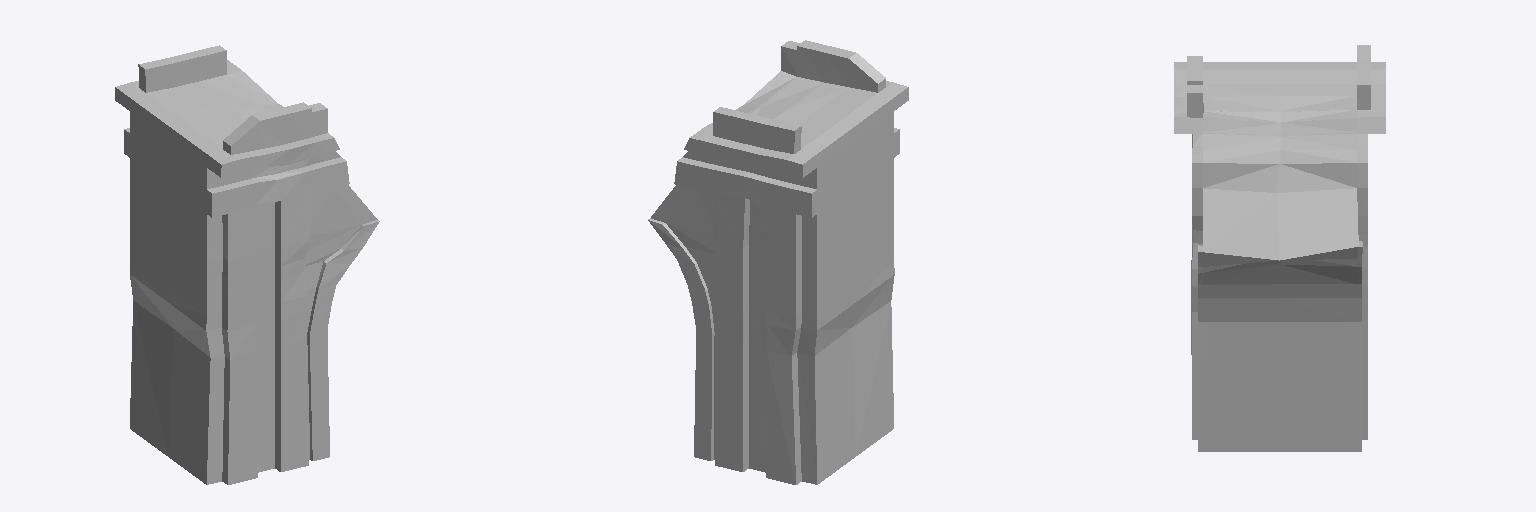
The model's file is bridgePillar.obj.
3 renders of one model, left to right at view 1: azimuth 30°, elevation 25°; view 2: azimuth 150°, elevation 25°; view 3: azimuth 270°, elevation 25°, orthographic.
Parts seen in each view (by area): view 1: defaultMaterial.016; view 2: defaultMaterial.016; view 3: defaultMaterial.016.
Part boxes in pixels (x1,y1,x2,y2): defaultMaterial.016: (115, 45, 379, 484); defaultMaterial.016: (648, 40, 908, 484); defaultMaterial.016: (1174, 45, 1385, 451).
Size of the model in its own units: 0.8186 by 1.59 by 0.8548.